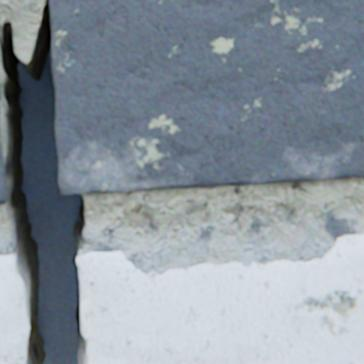brick: (49, 0, 363, 193), (0, 139, 7, 203)
broken_brick: (76, 233, 363, 363), (0, 253, 28, 363)
crack: (0, 0, 88, 363)
